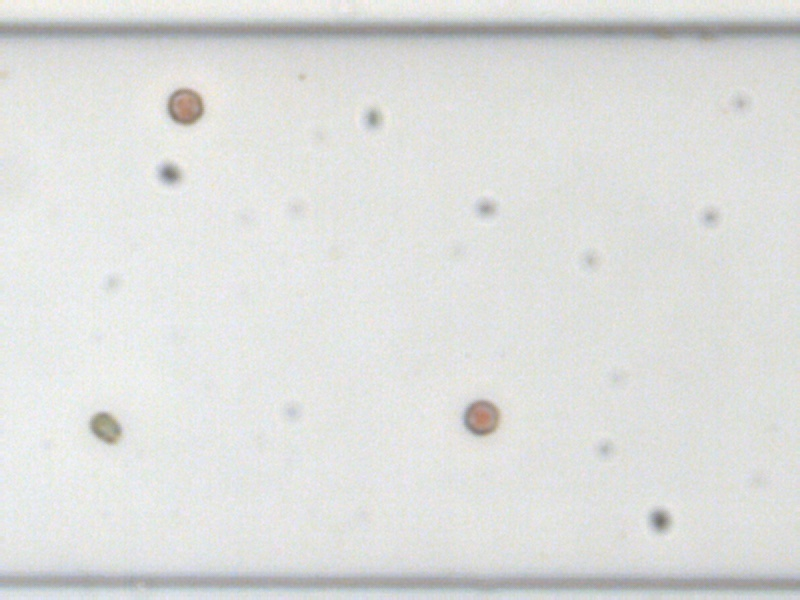Dunaliella salina: (85, 408, 123, 447)
Porphyridium: (461, 396, 501, 436), (163, 86, 205, 124)
